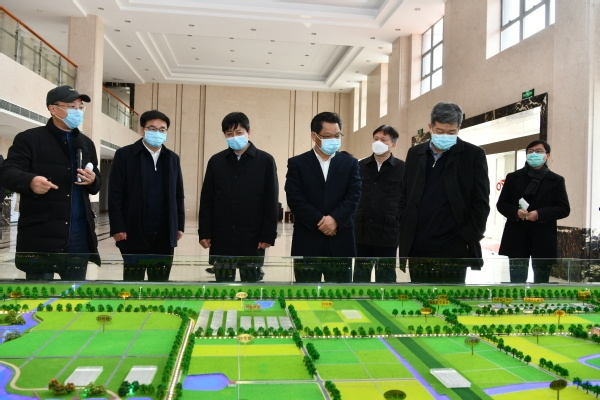correctlyWear: (46, 99, 86, 131), (309, 126, 342, 156), (222, 121, 252, 150), (430, 120, 457, 150), (140, 121, 166, 147), (371, 131, 395, 155), (523, 146, 548, 168)
